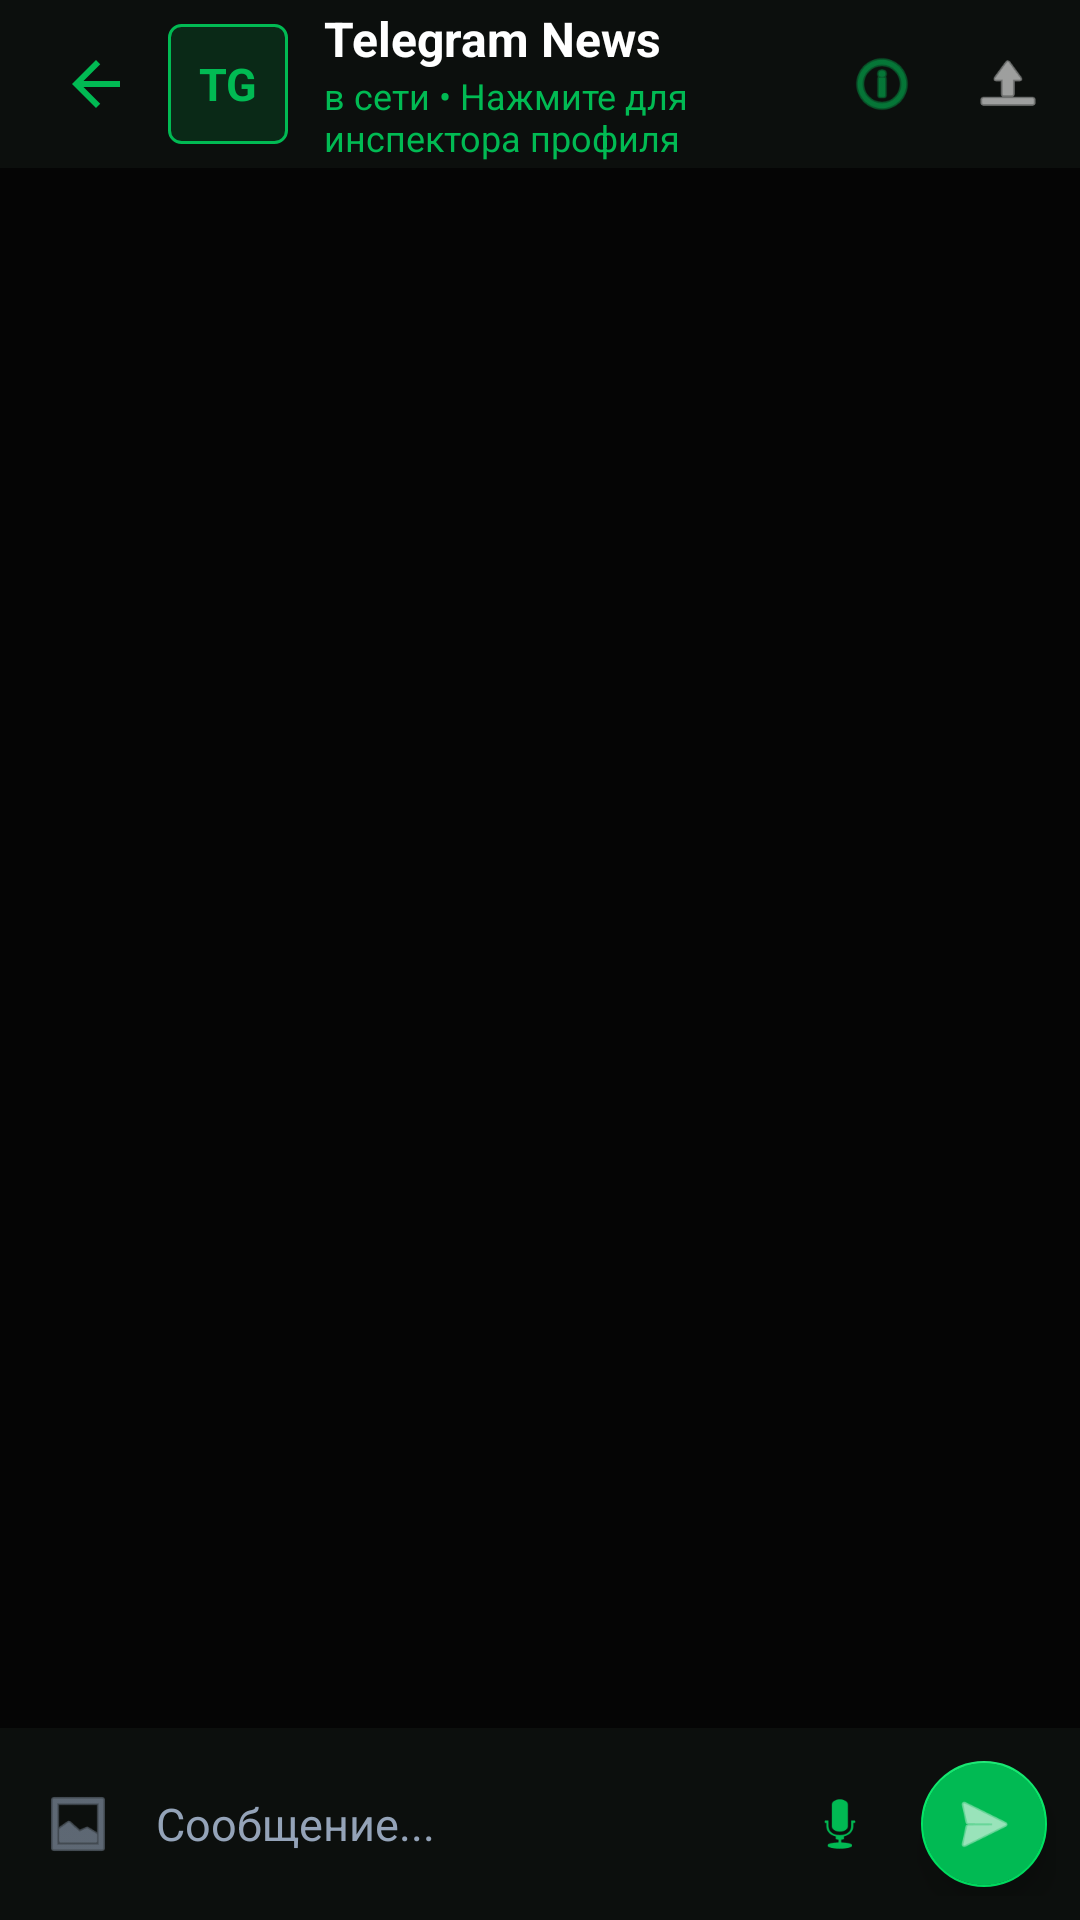

Where icons sit on this 1080w x 1920h app screen, as detection(x1, y1, x2, y2):
Attach: detection(51, 1797, 105, 1851)
Back: detection(72, 60, 120, 108)
Jump to First Message: detection(980, 60, 1036, 106)
Send: detection(921, 1761, 1047, 1887)
Voice Message: detection(824, 1799, 856, 1849)
